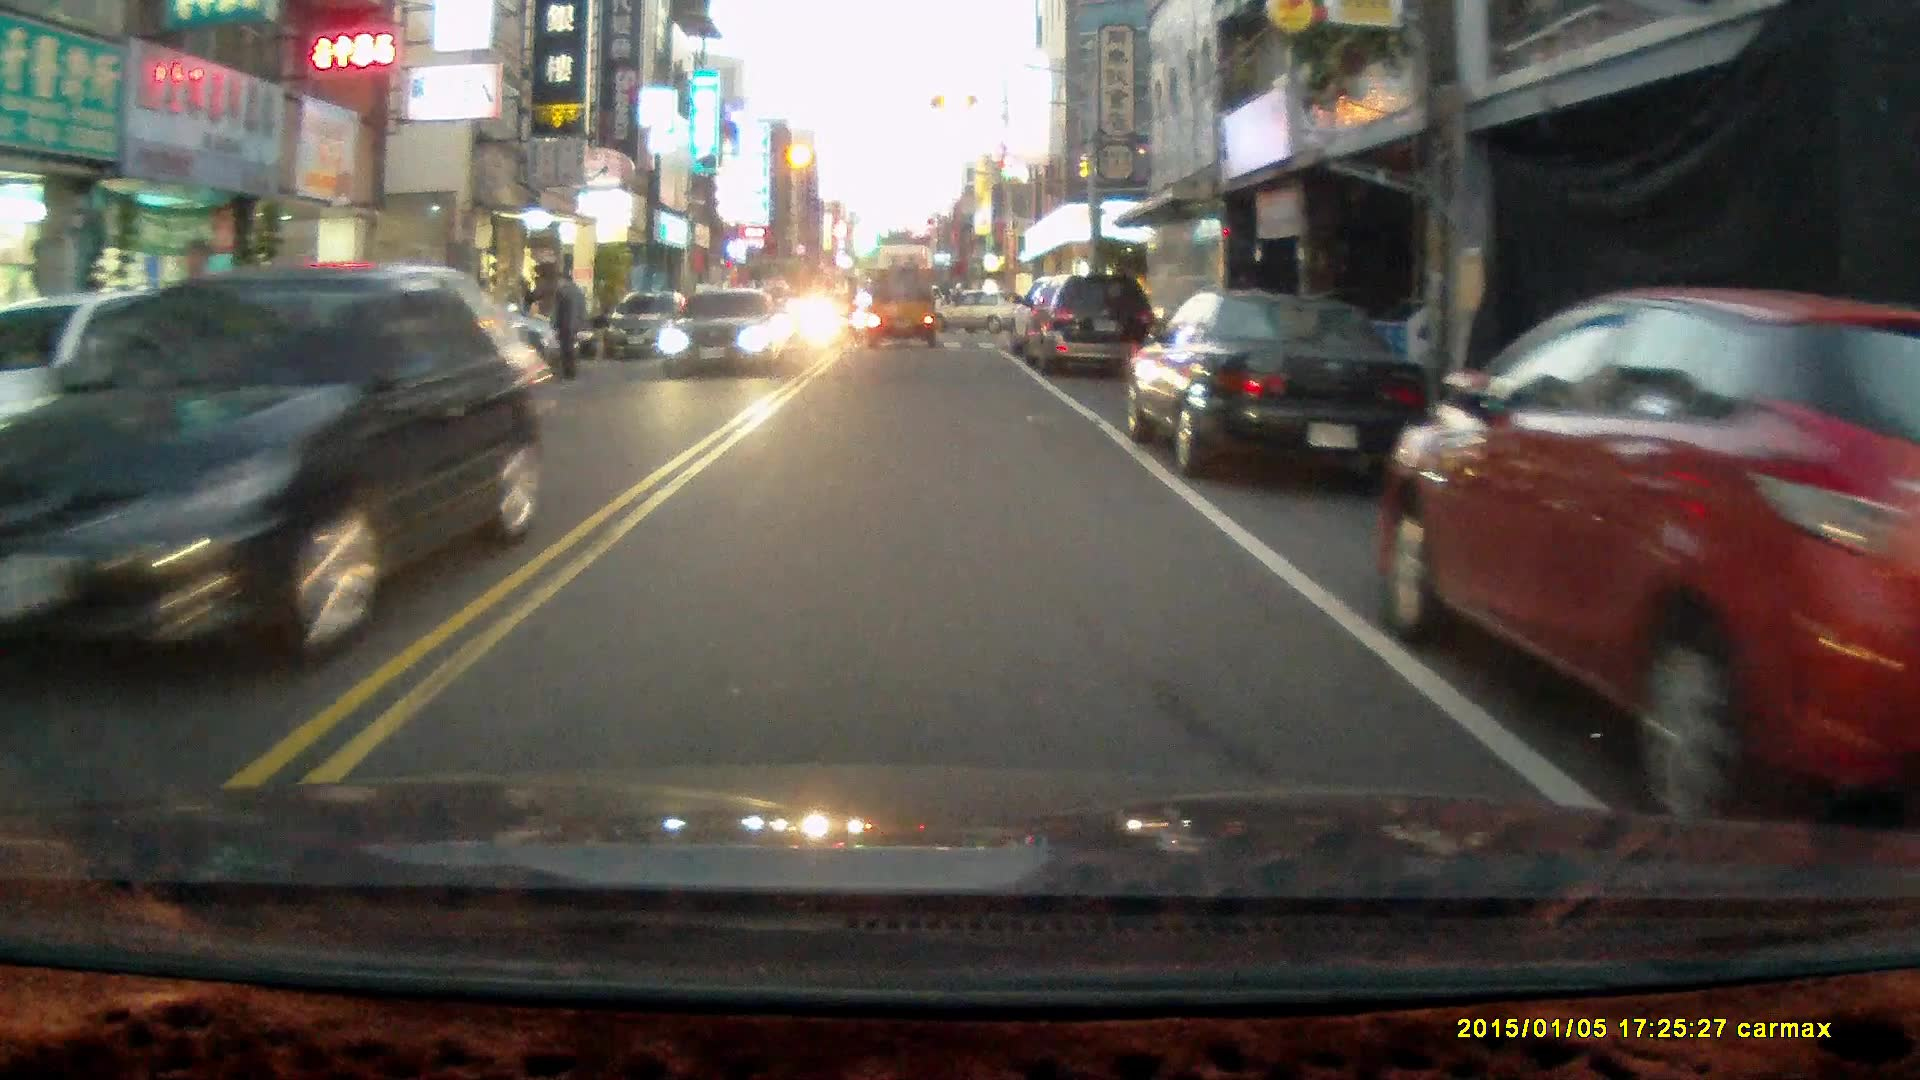pedestrian: (550, 267, 591, 385)
vehicle: (1383, 285, 1920, 813), (27, 261, 556, 702), (1124, 286, 1435, 486), (1019, 272, 1161, 377), (662, 286, 788, 379), (603, 288, 699, 354), (867, 268, 939, 350)
